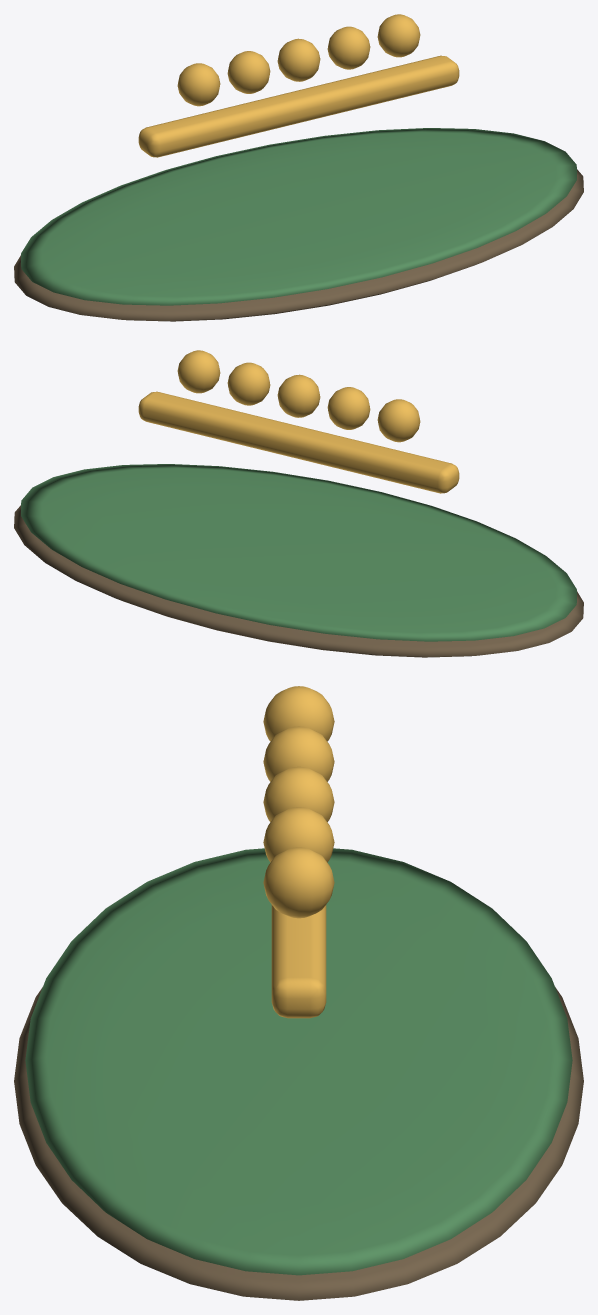
The model's file is ordered-row.glb.
3 views of the same model, one above another, from view 1: azimuth 30°, elevation 25°; view 2: azimuth 150°, elevation 25°; view 3: azimuth 270°, elevation 25° (orthographic). The views are drawn at different scales.
Parts seen in each view (by area): view 1: ordered-row_surface_01, ordered-row_surface_02, ordered-row_surface_00; view 2: ordered-row_surface_01, ordered-row_surface_02, ordered-row_surface_00; view 3: ordered-row_surface_01, ordered-row_surface_02, ordered-row_surface_00.
Part boxes in pixels (bbox=[...]): ordered-row_surface_01: bbox=[21, 128, 576, 305]; ordered-row_surface_02: bbox=[138, 14, 459, 157]; ordered-row_surface_00: bbox=[14, 169, 583, 321]; ordered-row_surface_01: bbox=[21, 464, 576, 641]; ordered-row_surface_02: bbox=[138, 350, 459, 493]; ordered-row_surface_00: bbox=[14, 505, 583, 657]; ordered-row_surface_01: bbox=[25, 848, 572, 1275]; ordered-row_surface_02: bbox=[263, 686, 334, 1018]; ordered-row_surface_00: bbox=[14, 987, 583, 1300].
Bounding box in the file's own units: 4.56 × 1.64 × 2.5.
